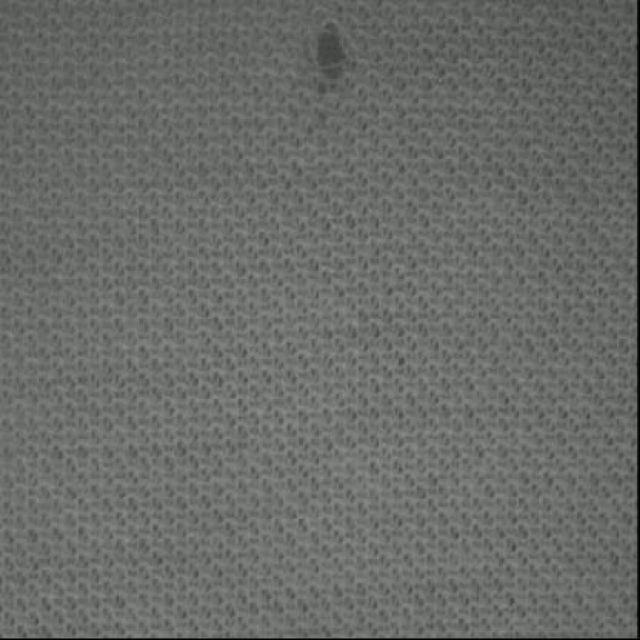Hole: (315, 21, 346, 92)
